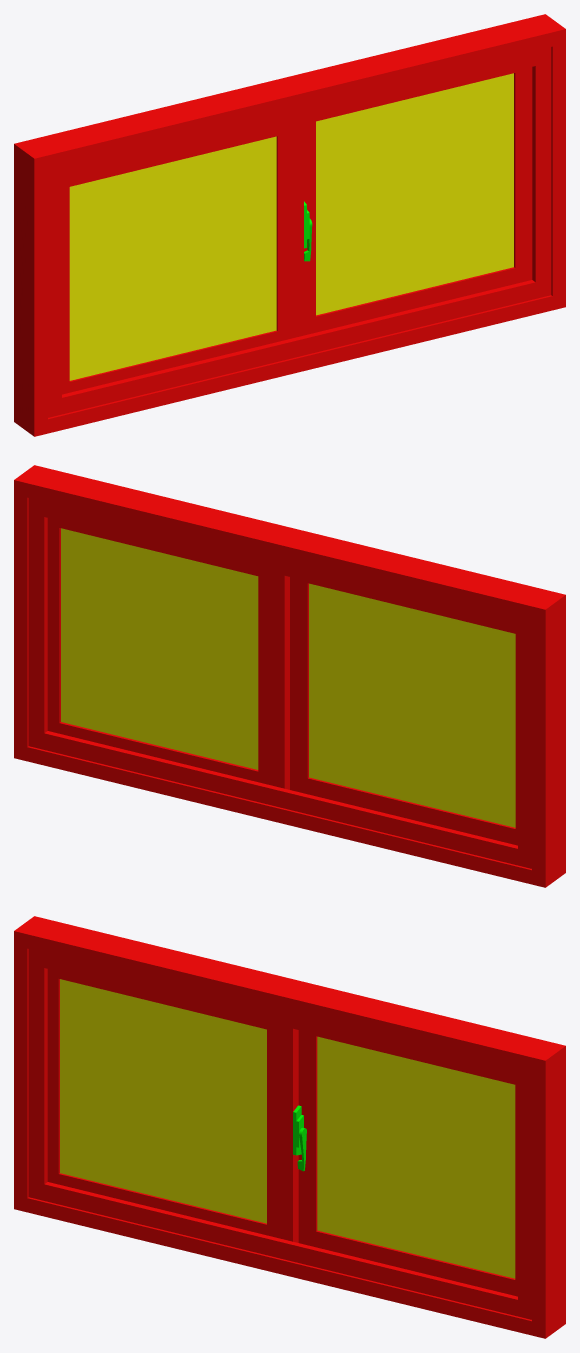
Rendered from window_slider_48x24.glb.
3 views of the same model, one above another, from view 1: azimuth 30°, elevation 25°; view 2: azimuth 150°, elevation 25°; view 3: azimuth 330°, elevation 25° (orthographic).
Visible parts, largest first — view 1: window_slider_48x24; view 2: window_slider_48x24; view 3: window_slider_48x24.
Boxes of the visible parts, left/top/right/bottom form: window_slider_48x24: left=14, top=14, right=565, bottom=436; window_slider_48x24: left=14, top=465, right=565, bottom=887; window_slider_48x24: left=14, top=916, right=565, bottom=1338.
Size of the model in its own units: 1.22 by 0.6096 by 0.0812.
